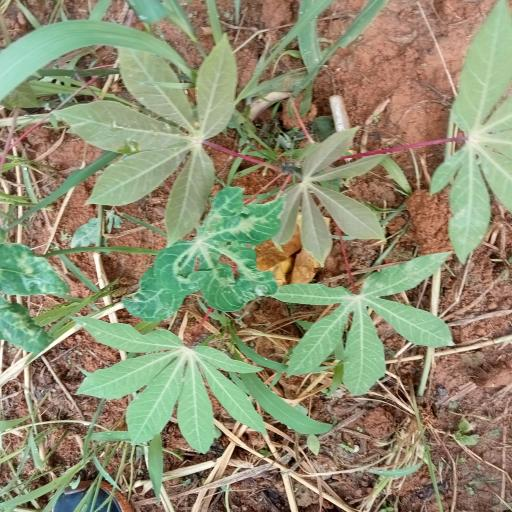Cassava_Mosaic: (56, 48, 234, 240), (79, 314, 261, 434), (273, 274, 439, 386), (162, 190, 280, 324)
